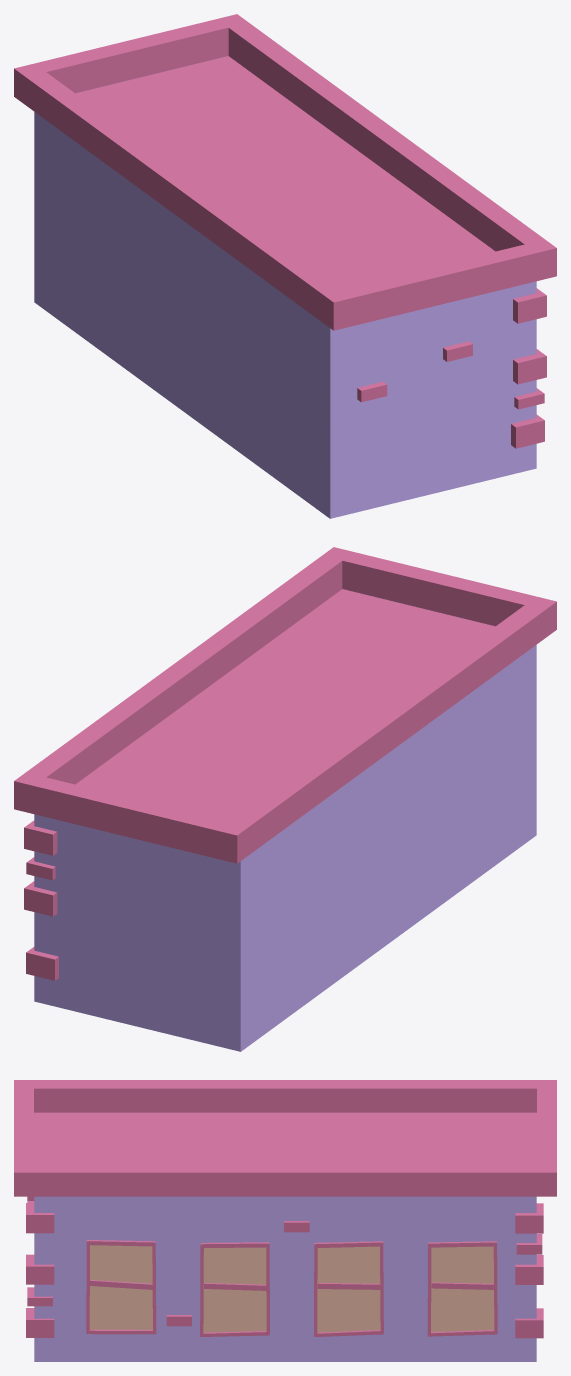
File: Big__pink_house_no_door_.fbx
The picture shows the model from 3 angles, top to bottom: view 1: azimuth 30°, elevation 25°; view 2: azimuth 150°, elevation 25°; view 3: azimuth 270°, elevation 25°; orthographic projection. The views are drawn at different scales.
Visible parts, largest first — view 1: Big pink house no door; view 2: Big pink house no door; view 3: Big pink house no door.
Boxes of the visible parts, x1,y1,x2,y2 form: Big pink house no door: [14, 14, 556, 518]; Big pink house no door: [14, 547, 556, 1051]; Big pink house no door: [14, 1080, 556, 1361].
Bounding box in the file's own units: 1539 × 1496 × 3818.
